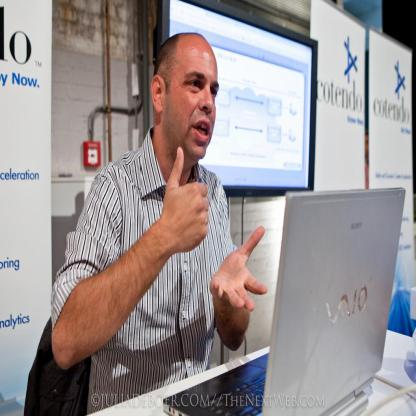board: (162, 186, 404, 414)
